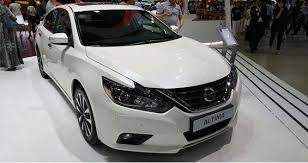Nissan: (37, 8, 237, 142)
